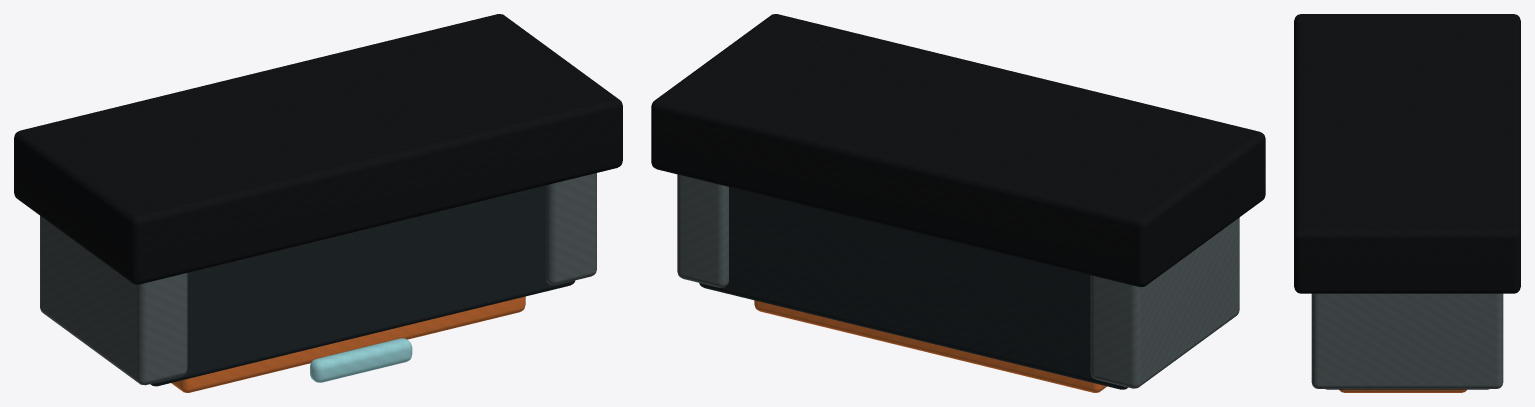
The model's file is CeilingEmergencyLight.glb.
3 renders of one model, left to right at view 1: azimuth 30°, elevation 25°; view 2: azimuth 150°, elevation 25°; view 3: azimuth 270°, elevation 25°, orthographic. The views are drawn at different scales.
Parts seen in each view (by area): view 1: CeilingEmergencyLight_Mesh; view 2: CeilingEmergencyLight_Mesh; view 3: CeilingEmergencyLight_Mesh.
Boxes of the visible parts, bbox=[...] form: CeilingEmergencyLight_Mesh: bbox=[14, 14, 622, 392]; CeilingEmergencyLight_Mesh: bbox=[651, 14, 1265, 392]; CeilingEmergencyLight_Mesh: bbox=[1294, 14, 1520, 392].
Size of the model in its own units: 0.6 by 0.2625 by 0.26.
Materials: 5 (5 with a texture image).
